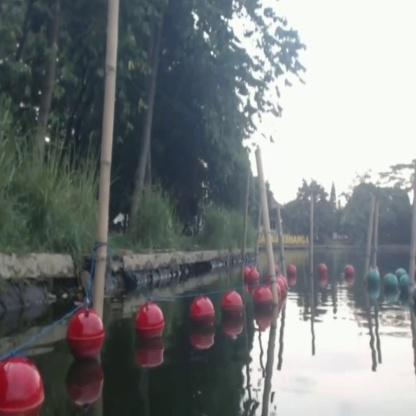green_buoy: (384, 272, 406, 296), (368, 268, 381, 294)
red_buoy: (0, 354, 44, 414), (70, 311, 102, 353), (187, 294, 215, 338), (136, 304, 164, 344), (222, 292, 244, 328), (252, 287, 272, 318), (245, 264, 262, 286), (277, 275, 287, 304), (341, 264, 353, 281), (316, 264, 326, 284), (288, 265, 298, 282)
